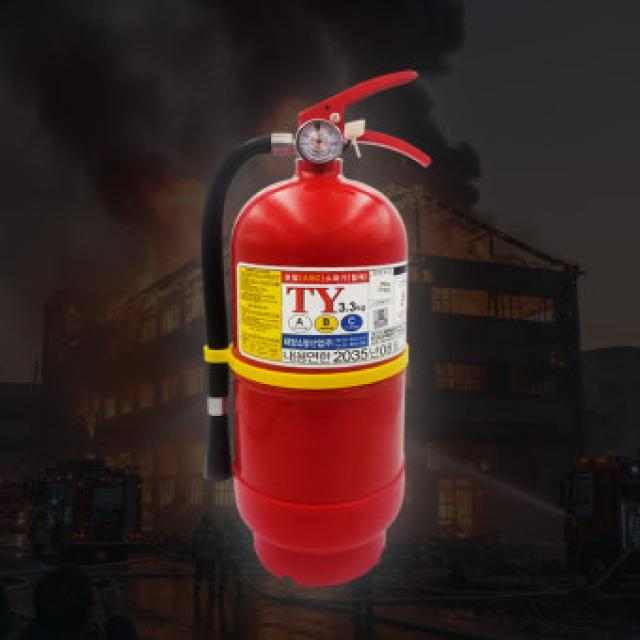pressure gauge: (296, 120, 341, 162)
